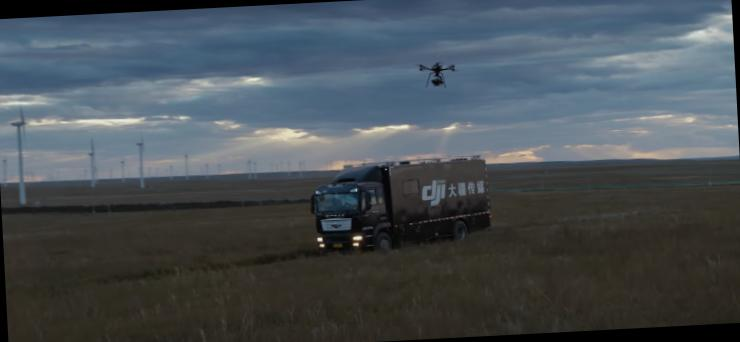drone: (416, 60, 460, 90)
